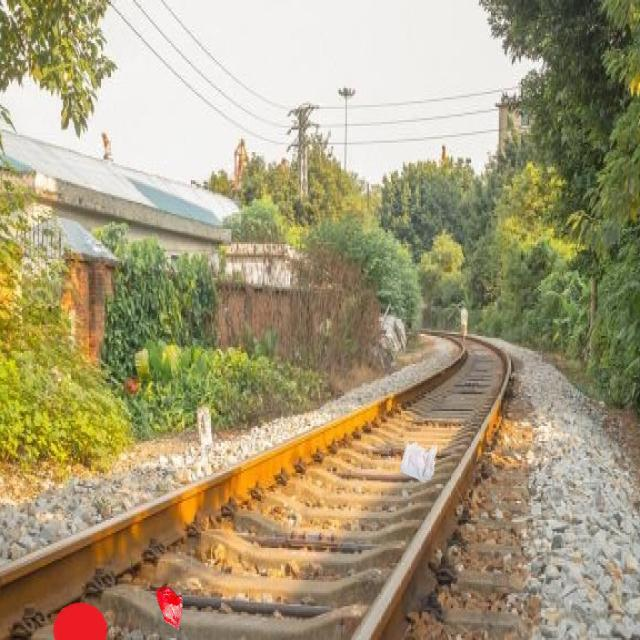0 plastic_garbage_on_track: (399, 437, 437, 483), (155, 586, 183, 632)
2 negative_shape: (52, 602, 107, 640)
4 track: (0, 368, 512, 639)
